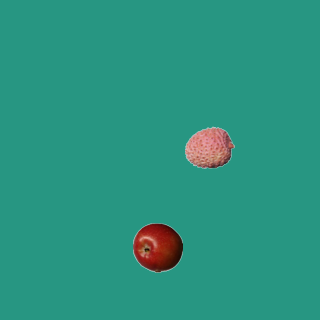Apple Braeburn: (132, 222, 182, 272)
Lychee: (184, 122, 234, 172)
